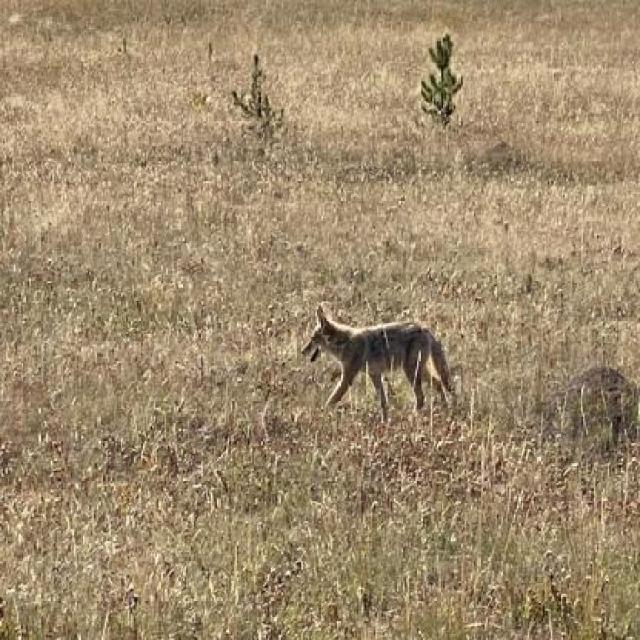Coyote: (301, 304, 457, 424)
